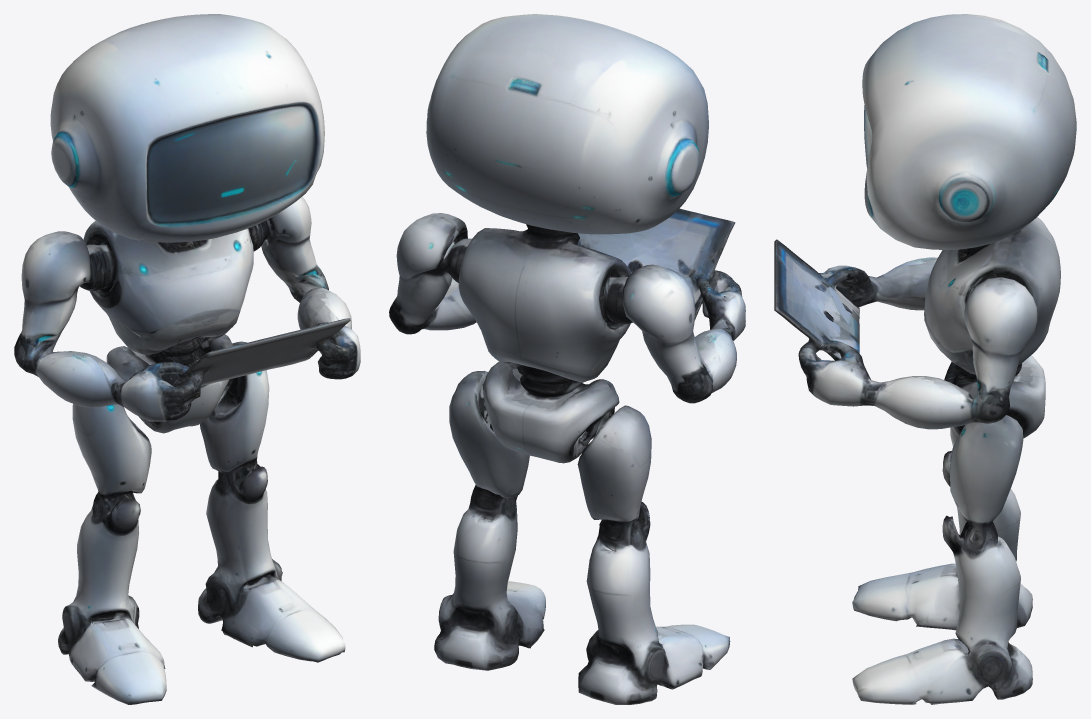
The model's file is robot3d.glb.
3 views of the same model, side by side, from view 1: azimuth 30°, elevation 25°; view 2: azimuth 150°, elevation 25°; view 3: azimuth 270°, elevation 25° (orthographic). The views are drawn at different scales.
Bounding box in the file's own units: 1.06 × 2 × 0.8967.
Materials: 1 (1 with a texture image).
